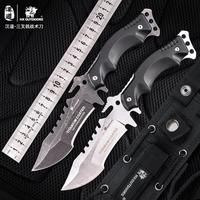knife: (27, 5, 152, 178), (58, 40, 193, 196)
